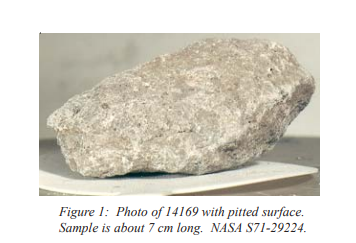Breccia: (51, 39, 311, 178)
